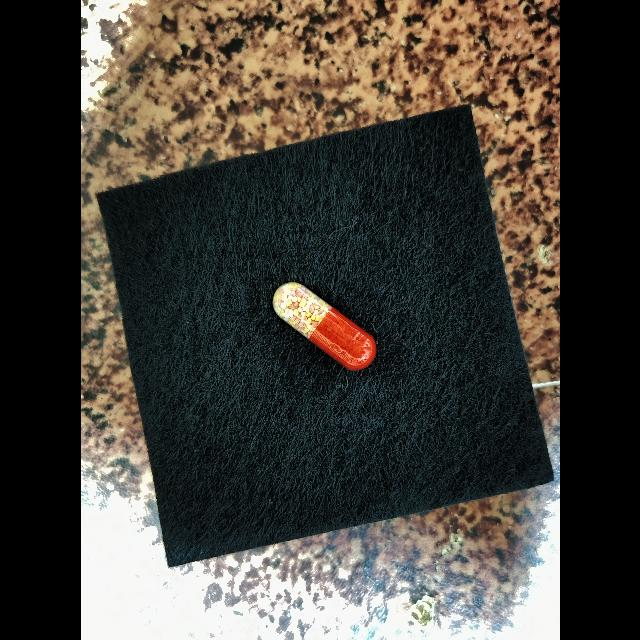Intact Capsule: (272, 282, 376, 371)
